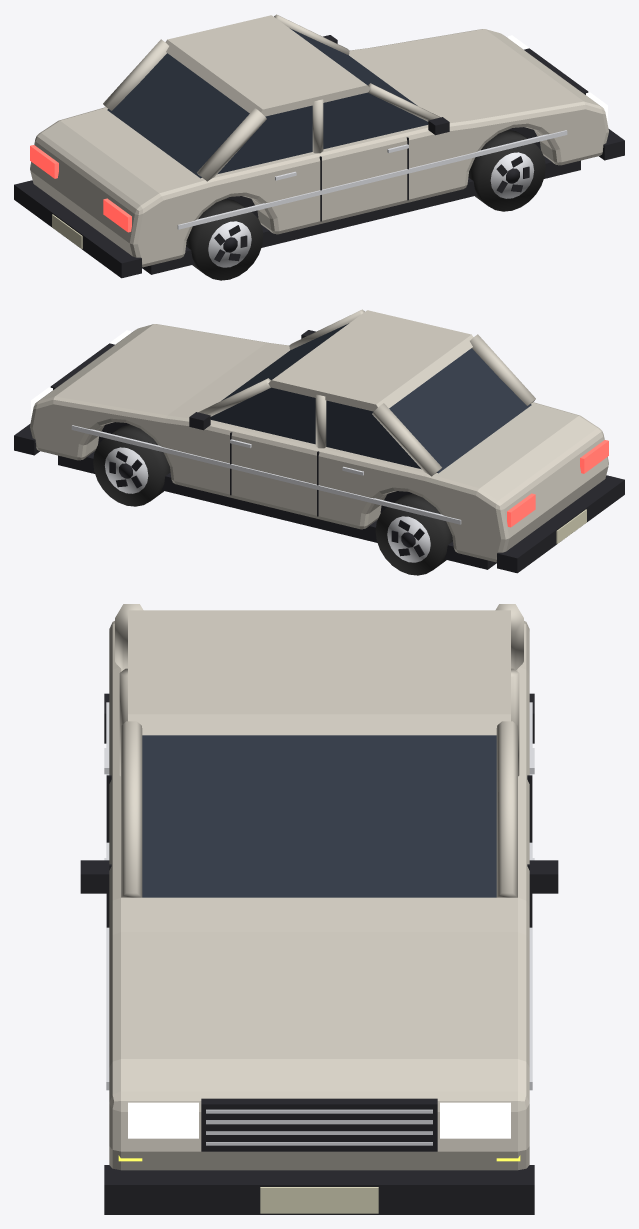
File: car_2.glb
3 renders of one model, top to bottom at view 1: azimuth 30°, elevation 25°; view 2: azimuth 150°, elevation 25°; view 3: azimuth 270°, elevation 25°, orthographic. The views are drawn at different scales.
Visible parts, largest first — view 1: car_2; view 2: car_2; view 3: car_2.
Boxes of the visible parts, box(x1,y1,x2,y2) form: car_2: box(14, 14, 624, 280); car_2: box(14, 309, 624, 575); car_2: box(80, 604, 558, 1214).
Bounding box in the file's own units: 4.94 × 1.49 × 2.02.
